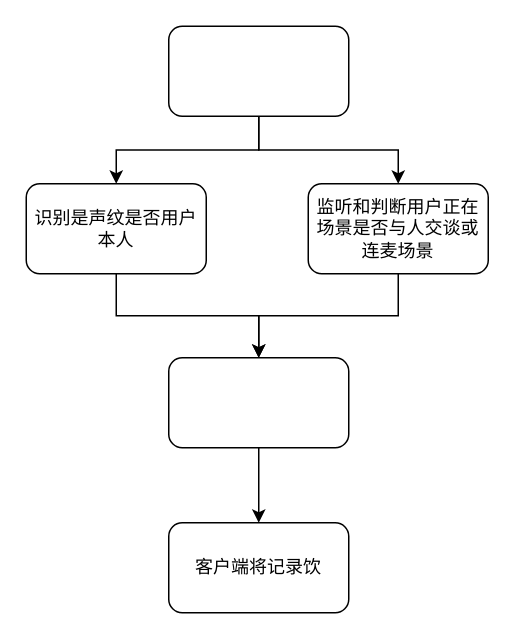
The diagram is 515 pixels wide and 639 high, and some of its shapes have lost their labels. The box of each missing label's shape, as (x1, y1, x2, y2) in pixels:
客户端判断用户正在哼唱歌曲，记录音调和发声: (167, 356, 349, 448)
客户端监听用户使用的场景音: (167, 25, 349, 116)
